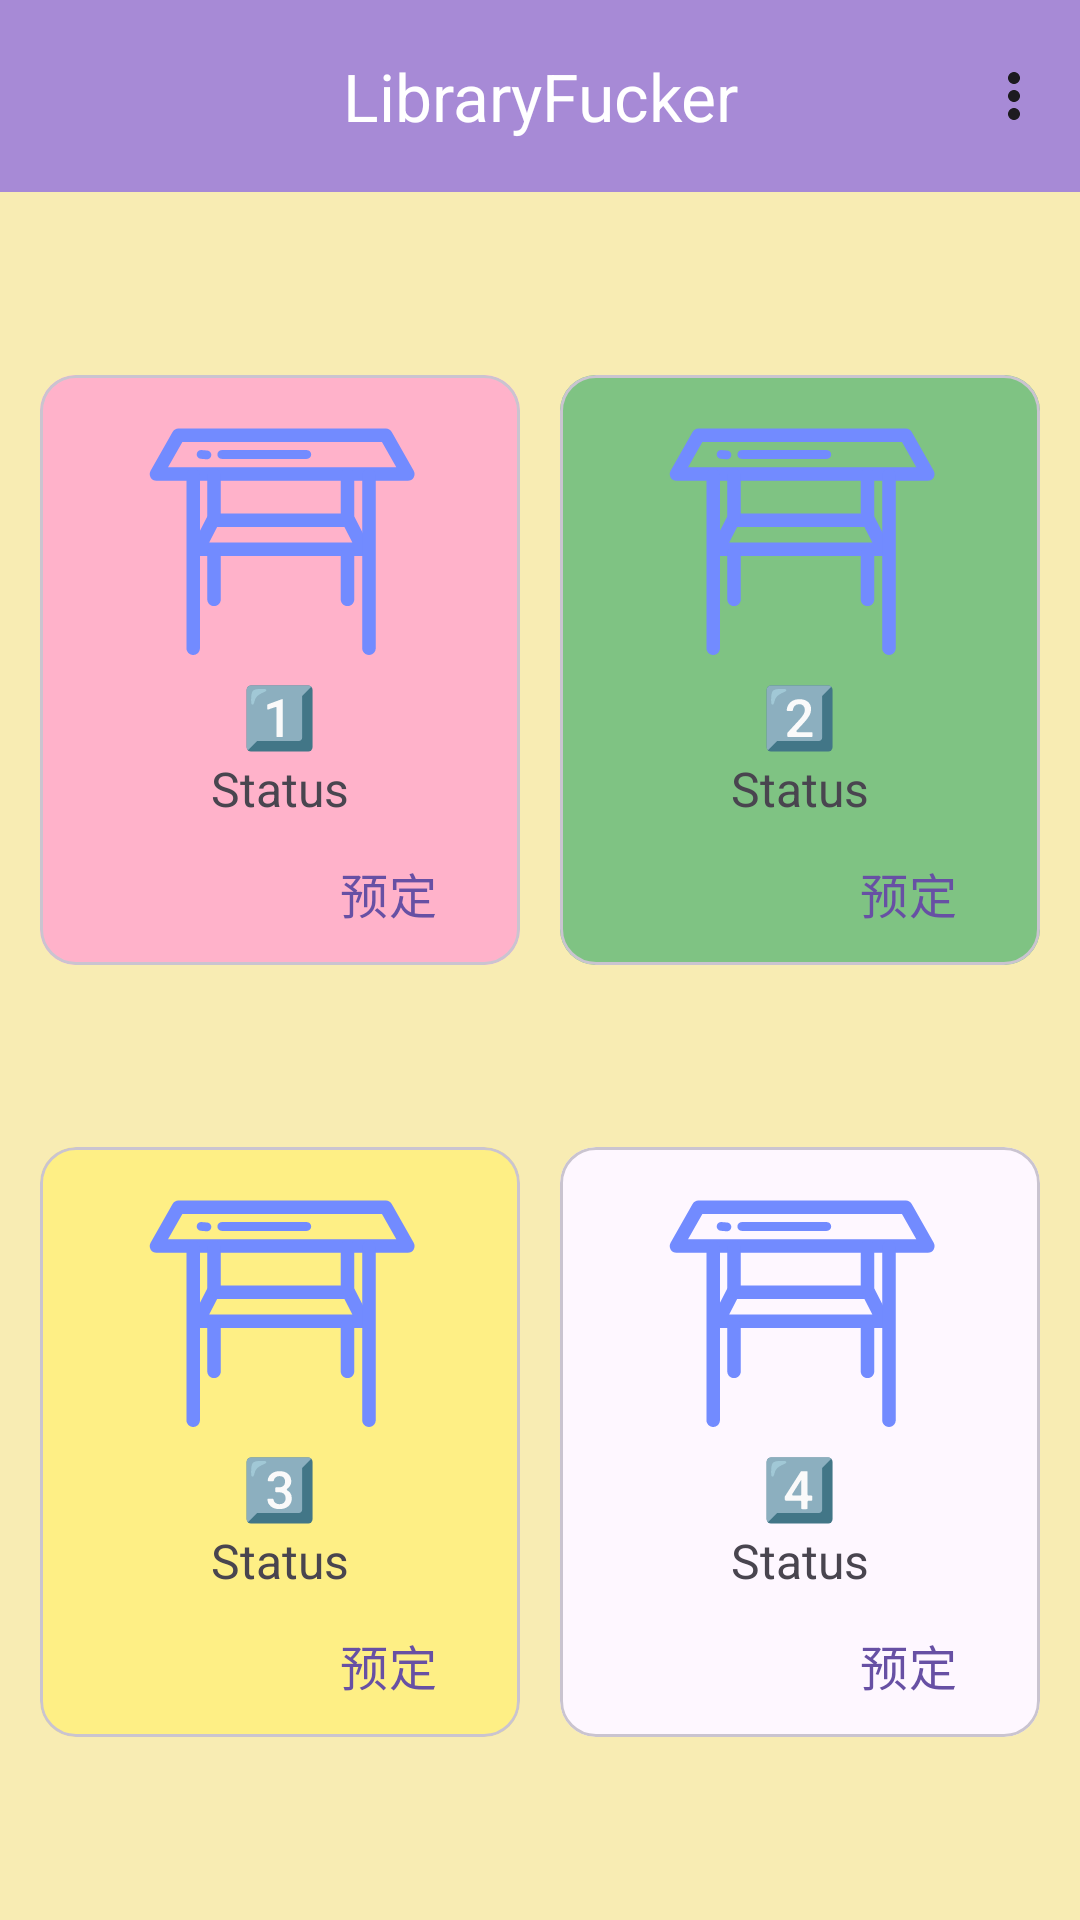

Screen size 1080px x 1920px. Icon name, then its box in pixels as (x1, y1, x2, y2):
desk: (149, 428, 415, 655), (669, 428, 935, 655), (149, 1200, 415, 1427), (669, 1200, 935, 1427)
